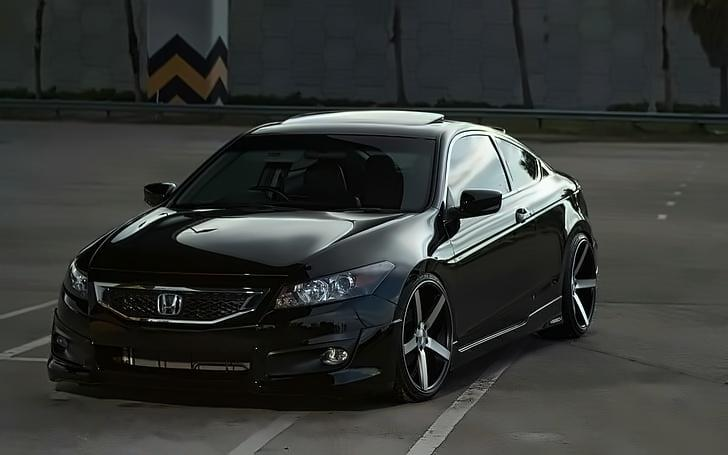Car hood: (85, 200, 407, 288)
Fender - -F-L-: (283, 203, 456, 363)
Front bumper: (36, 299, 408, 407)
Headlight - -L-: (272, 257, 400, 312)
Headlight - -R-: (62, 256, 94, 303)
Passenger-s door - -F-L-: (455, 127, 541, 349)
Side bumper - -L-: (448, 292, 564, 370)
Side mirror - -L-: (449, 180, 507, 224)
Side mirror - -R-: (138, 176, 192, 213)
